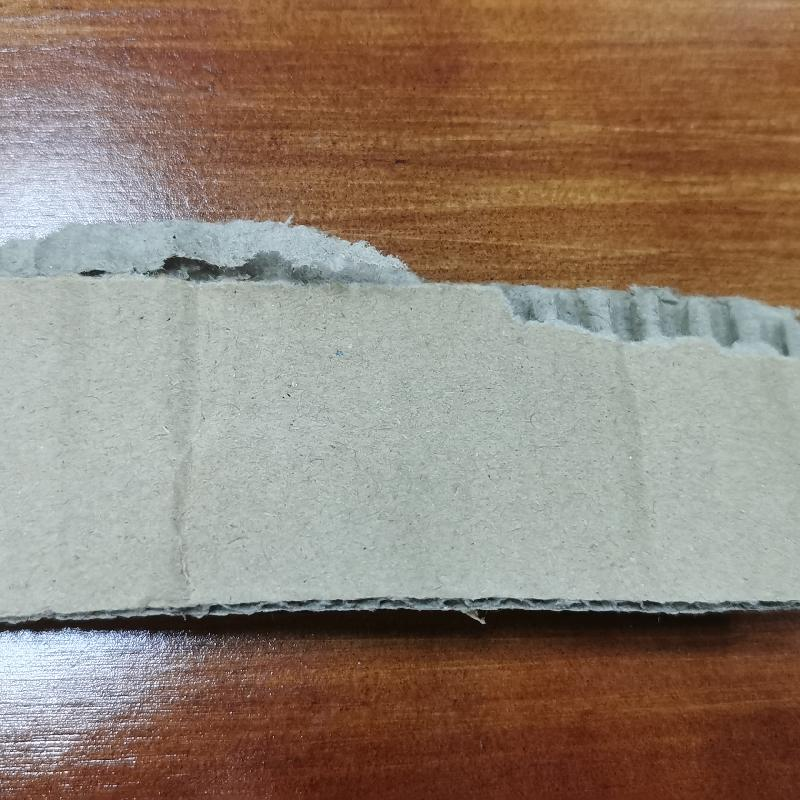boxes: (9, 214, 799, 635)
